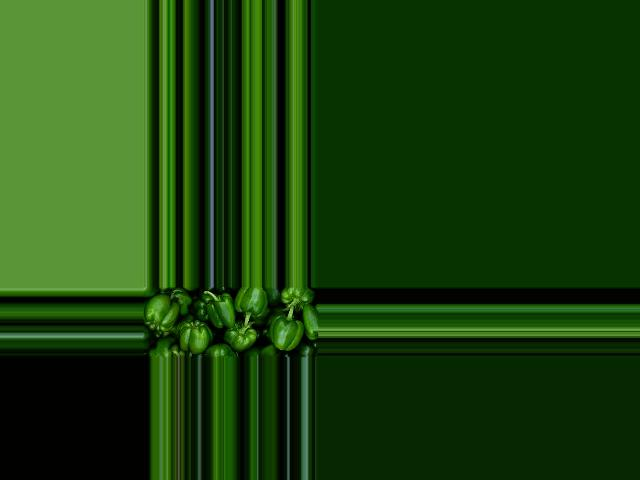bell_pepper: (143, 289, 316, 357)
